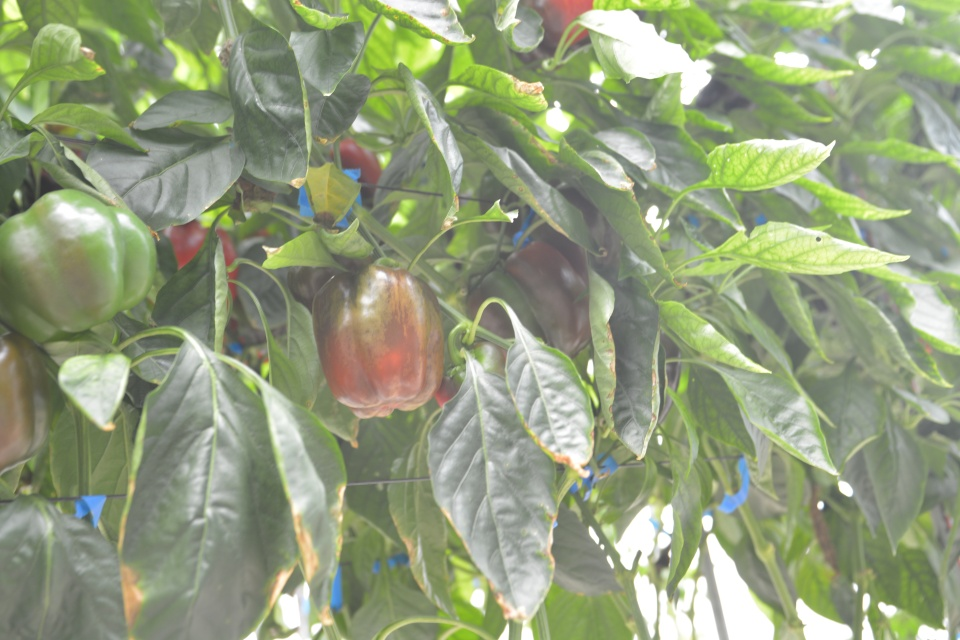fruit: (0, 183, 160, 348), (308, 253, 447, 420), (464, 238, 592, 361), (0, 330, 56, 479), (165, 215, 237, 307), (433, 338, 507, 407), (516, 0, 597, 58), (330, 136, 382, 199)
pedicle: (444, 348, 474, 378)
